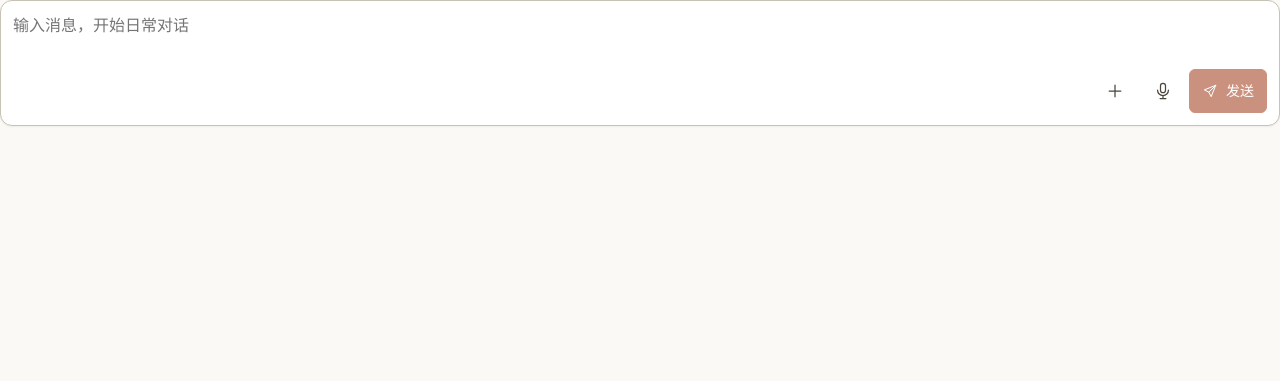
Composer 显式模块菜单（V2 Issue 11） › `+` 菜单有中文可访问名称、aria-expanded 状态与中文菜单项
Click the button named "添加功能或文件" at (1115, 91), box [1093,69,1137,113]
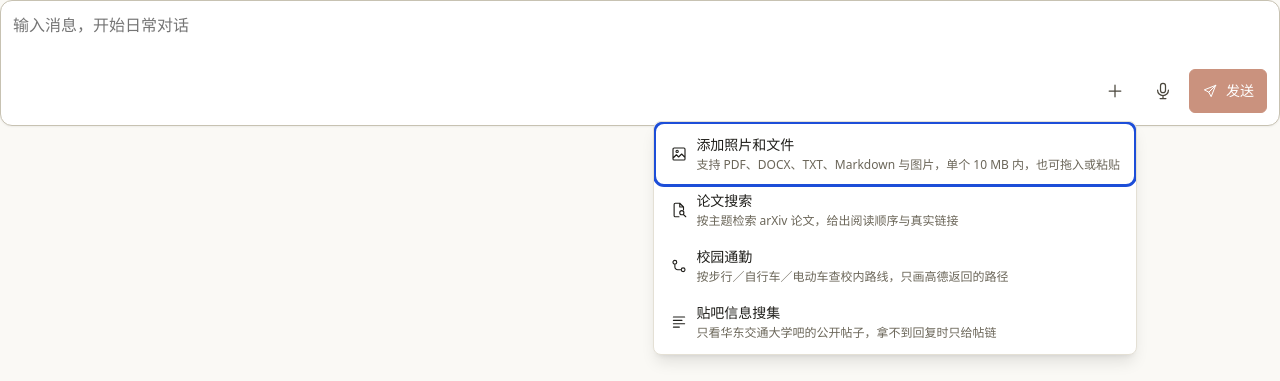
Expected: the menu named "添加功能或文件" is shown, [653,121,1137,355]
Expected: the menu item "添加照片和文件 支持 PDF、DOCX、TXT、Markdown 与图片，单个 10 MB 内，也可拖入或粘贴" is shown, [658,126,1132,182]
Expected: the menu item "论文搜索 按主题检索 arXiv 论文，给出阅读顺序与真实链接" is shown, [658,182,1132,238]
